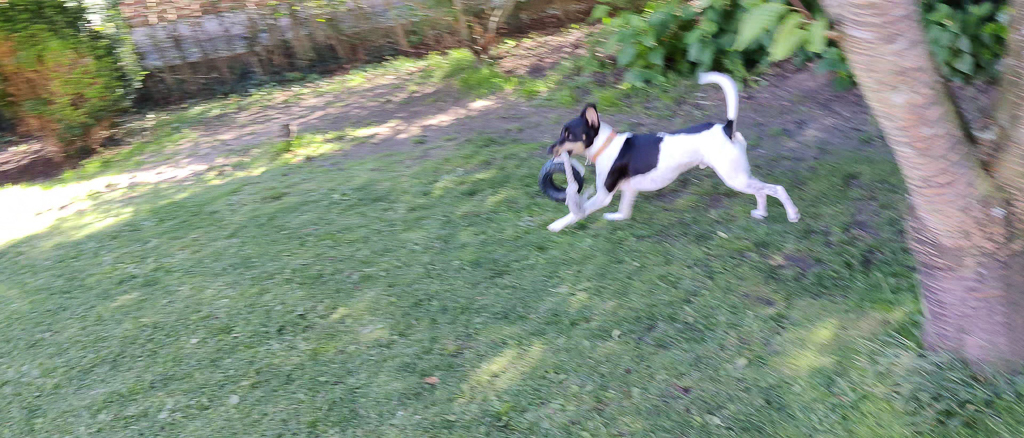Dog: (525, 68, 807, 237)
